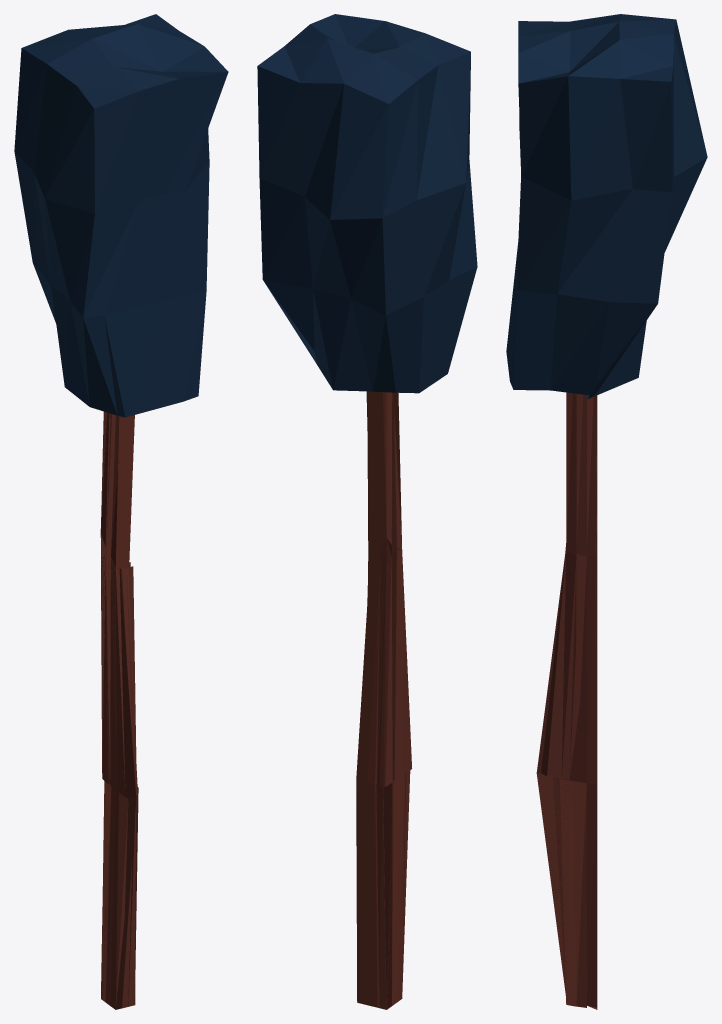
File: island2_tree3.obj
3 renders of one model, left to right at view 1: azimuth 30°, elevation 25°; view 2: azimuth 150°, elevation 25°; view 3: azimuth 270°, elevation 25°, orthographic. The views are drawn at different scales.
Visible parts, largest first — view 1: Cube.011_Cube.012, Cube.000_Cube.002; view 2: Cube.011_Cube.012, Cube.000_Cube.002; view 3: Cube.011_Cube.012, Cube.000_Cube.002.
Part boxes in pixels (x1=…): Cube.011_Cube.012: x1=14, y1=14, x2=228, y2=417; Cube.000_Cube.002: x1=100, y1=411, x2=138, y2=1009; Cube.011_Cube.012: x1=257, y1=14, x2=477, y2=393; Cube.000_Cube.002: x1=356, y1=391, x2=411, y2=1009; Cube.011_Cube.012: x1=506, y1=14, x2=707, y2=399; Cube.000_Cube.002: x1=536, y1=392, x2=597, y2=1009.
Size of the model in its own units: 3.29 by 18.4 by 3.43.
